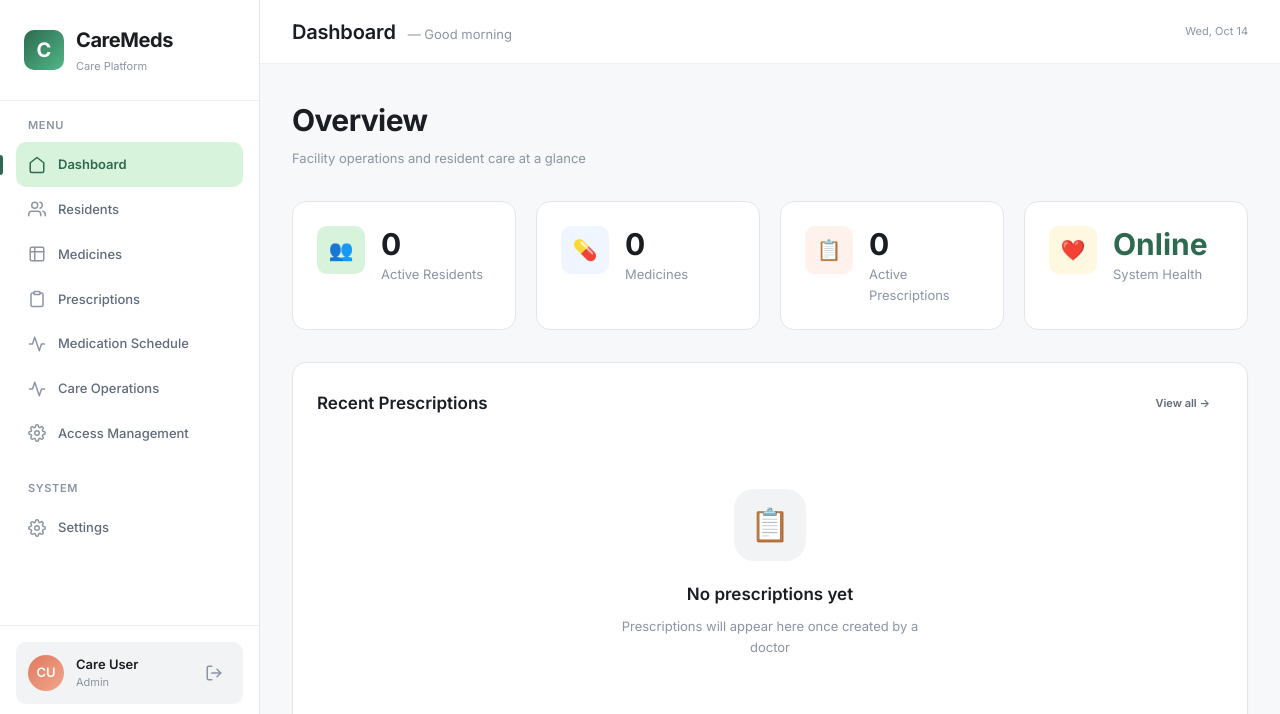
Test: CareMeds role-based application surfaces › lets only administrators create accounts through the account management screen
Expected: the heading "Overview" is shown, [292,102,427,138]
Click the button "Access Management" at [130, 433], box [16,411,243,456]
(page scrolled)
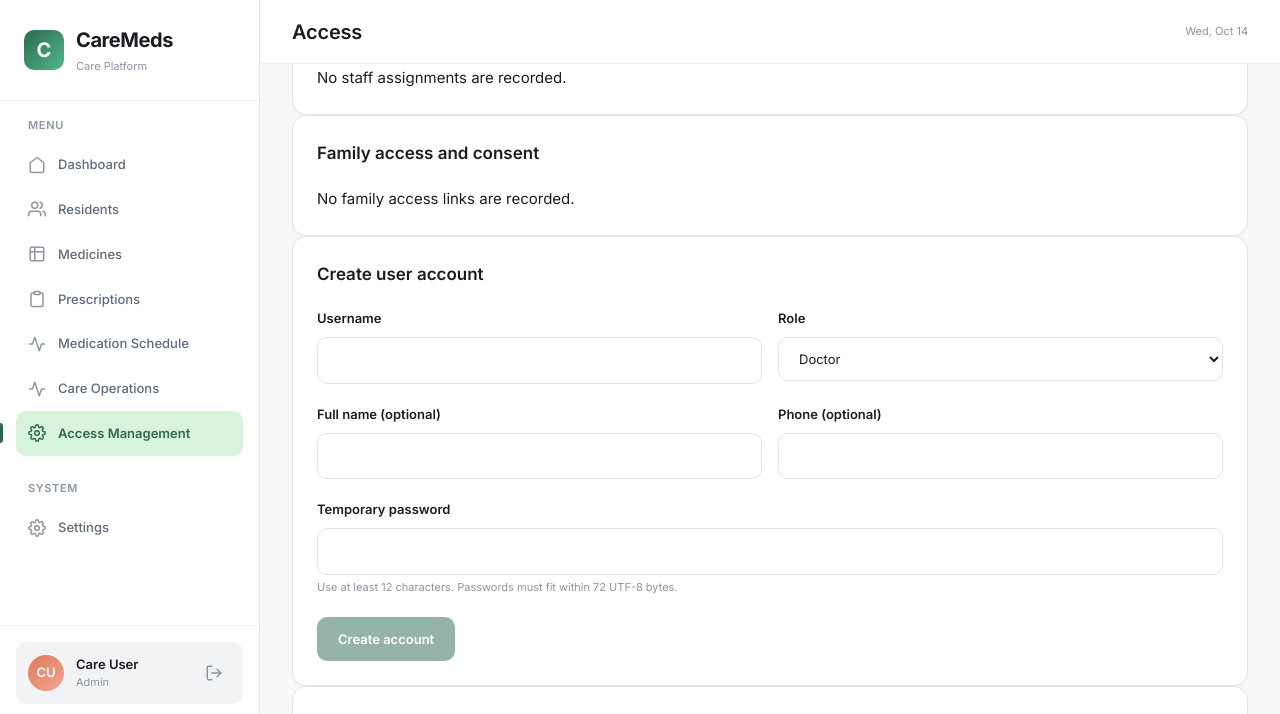
Expected: the heading "Create user account" is shown, [317,261,484,288]
Type "new-doctor" into the field labelled "Username" at [540, 360], box [317,337,762,384]
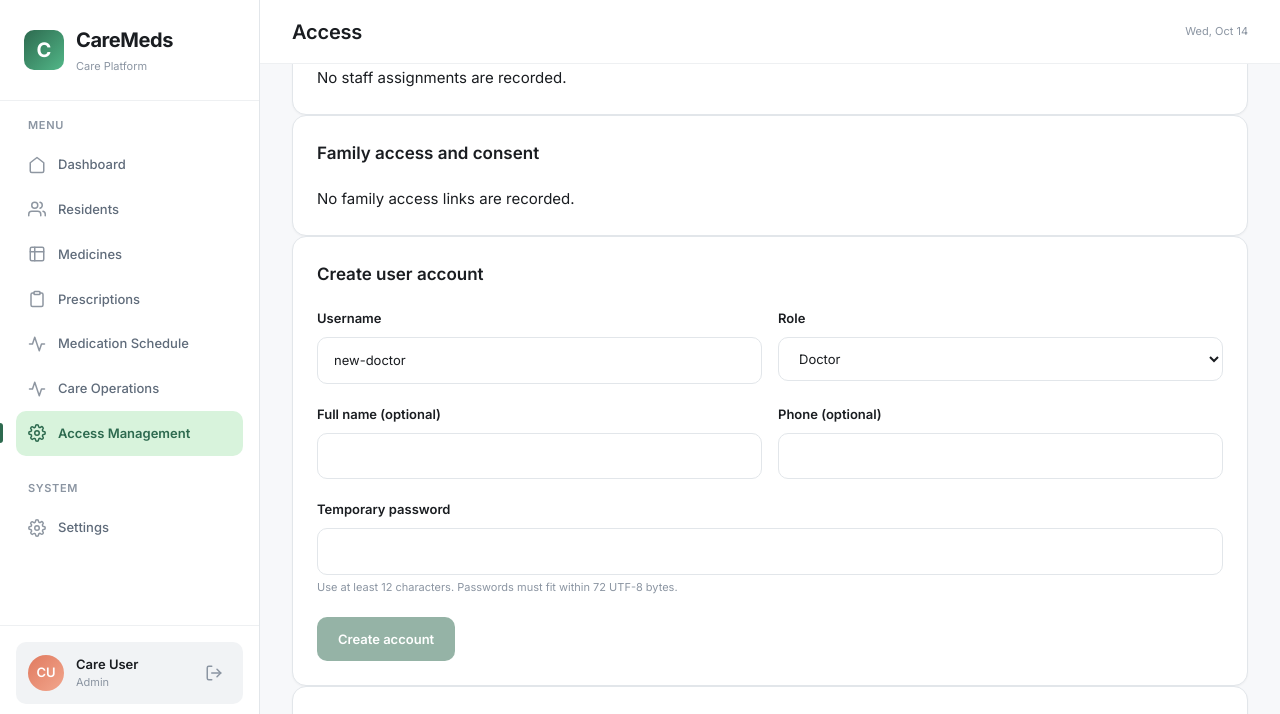
Select "Doctor" in the dropdown labelled "Role" at [1000, 359], box [778,337,1223,381]
Type "New Doctor" into the field labelled "Full name (optional)" at [540, 456], box [317,432,762,479]
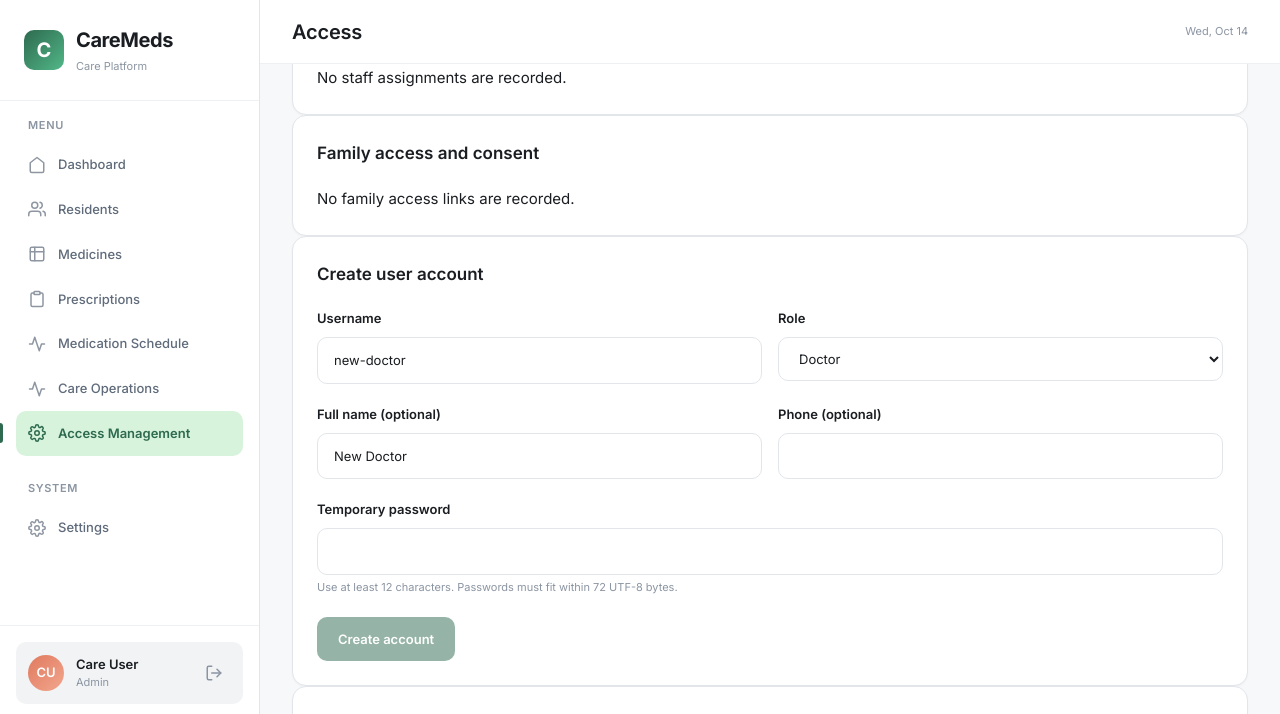
Type "a-secure-initial-password" into the password field labelled "Temporary password" at [770, 552], box [317,528,1223,575]
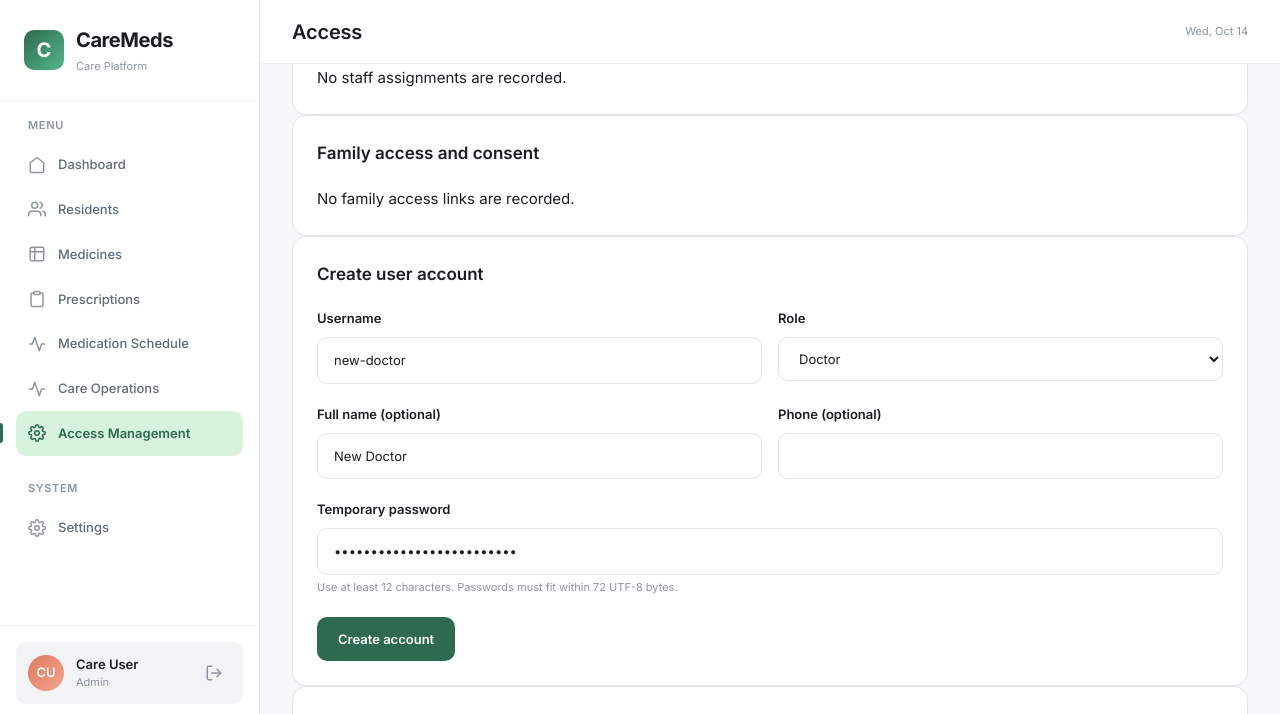
Click the button "Create account" at [386, 639], box [317,616,455,661]
(page scrolled)
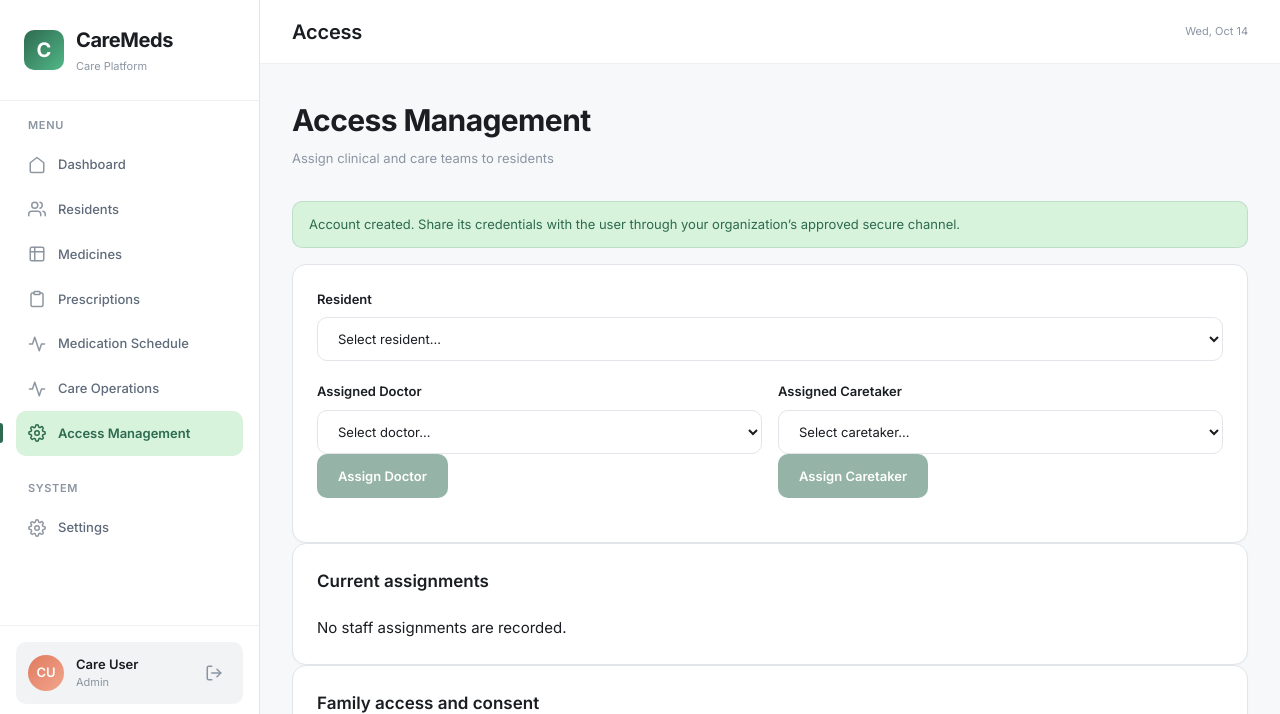
Expected: the text "Account created" is shown, [309,216,960,232]
